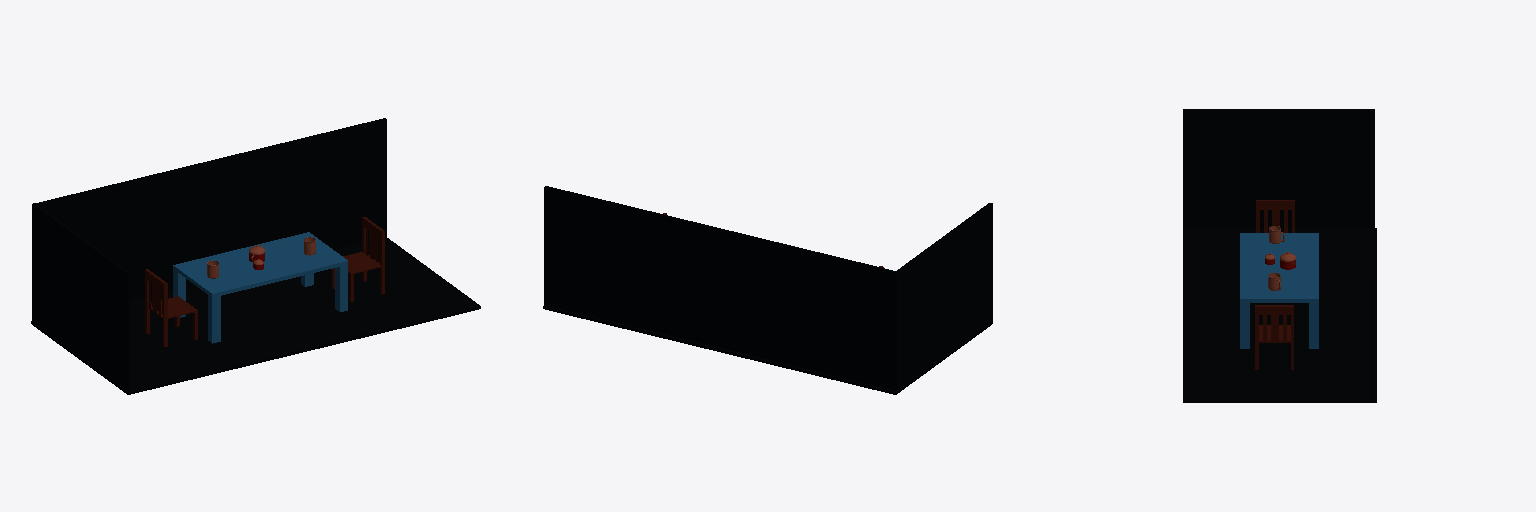
The model's file is kitchen.obj.
3 views of the same model, side by side, from view 1: azimuth 30°, elevation 25°; view 2: azimuth 150°, elevation 25°; view 3: azimuth 270°, elevation 25° (orthographic).
Parts seen in each view (by area): view 1: Cube.002, Cube, Cube.001, Table, Chair, Chair.001; view 2: Cube.002, Cube.001, Cube; view 3: Cube, Cube.001, Table, Chair.001, Cube.002, Chair.
Boxes of the visible parts, x1=… form: Cube.002: x1=36, y1=118, x2=386, y2=299; Cube: x1=31, y1=237, x2=480, y2=394; Cube.001: x1=32, y1=203, x2=130, y2=391; Table: x1=173, y1=232, x2=347, y2=343; Chair: x1=145, y1=269, x2=197, y2=346; Chair.001: x1=331, y1=217, x2=384, y2=301; Cube.002: x1=544, y1=186, x2=894, y2=389; Cube.001: x1=894, y1=203, x2=992, y2=390; Cube: x1=543, y1=305, x2=992, y2=394; Cube: x1=1183, y1=228, x2=1376, y2=402; Cube.001: x1=1183, y1=109, x2=1374, y2=228; Table: x1=1240, y1=233, x2=1318, y2=348; Chair.001: x1=1255, y1=305, x2=1293, y2=369; Cube.002: x1=1371, y1=111, x2=1373, y2=399; Chair: x1=1256, y1=200, x2=1294, y2=232.
Bounding box in the file's own units: 20.84 × 6.83 × 9.95.